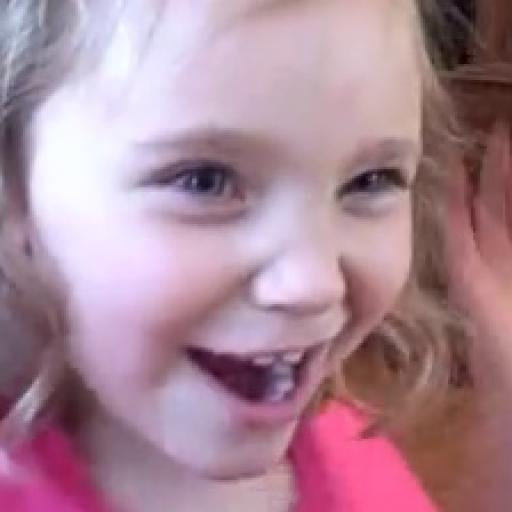Autism: (9, 0, 437, 512)
